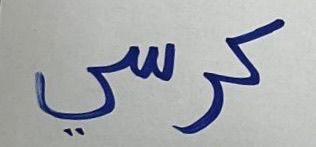kaf: (225, 16, 293, 91)
reh: (175, 69, 223, 134)
seen: (116, 36, 174, 86)
yeh: (22, 44, 114, 140)
